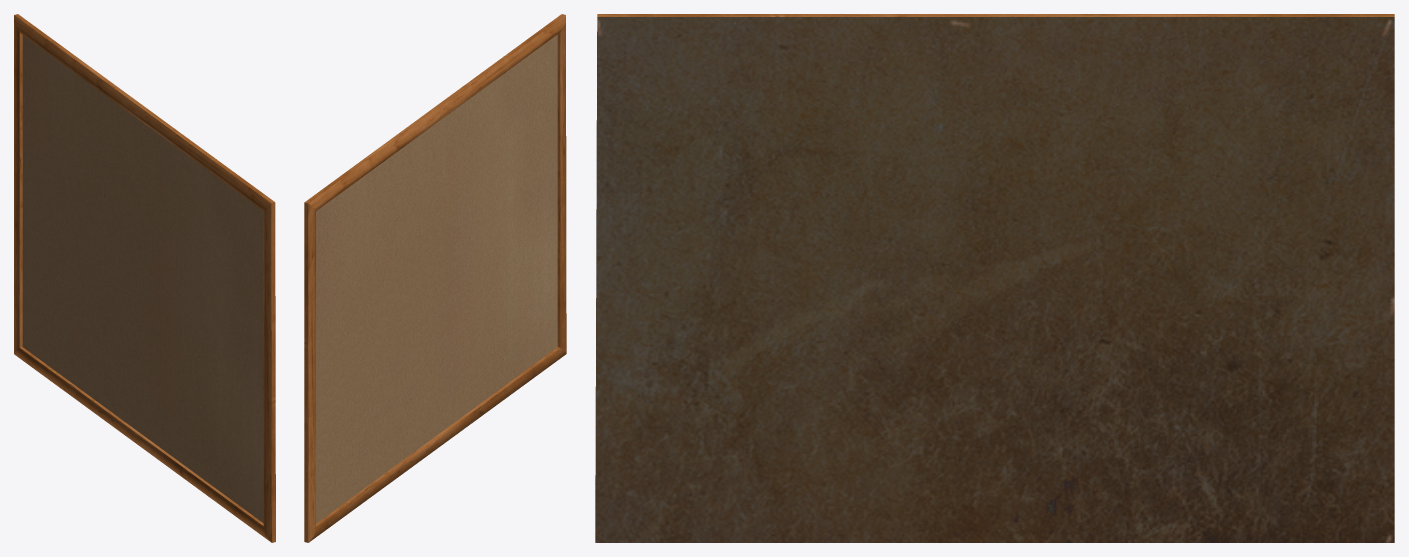
Rendered from SM_Corkboard_01a.fbx.
The picture shows the model from 3 angles, left to right: view 1: azimuth 30°, elevation 25°; view 2: azimuth 150°, elevation 25°; view 3: azimuth 270°, elevation 25°; orthographic projection. The views are drawn at different scales.
Parts seen in each view (by area): view 1: SM_Corkboard_01a_LOD0; view 2: SM_Corkboard_01a_LOD0; view 3: SM_Corkboard_01a_LOD0.
Boxes of the visible parts, left/top/right/bottom form: SM_Corkboard_01a_LOD0: left=14, top=14, right=275, bottom=542; SM_Corkboard_01a_LOD0: left=304, top=14, right=566, bottom=542; SM_Corkboard_01a_LOD0: left=595, top=14, right=1394, bottom=542.
Size of the model in its own units: 2.14 by 142 by 103.
